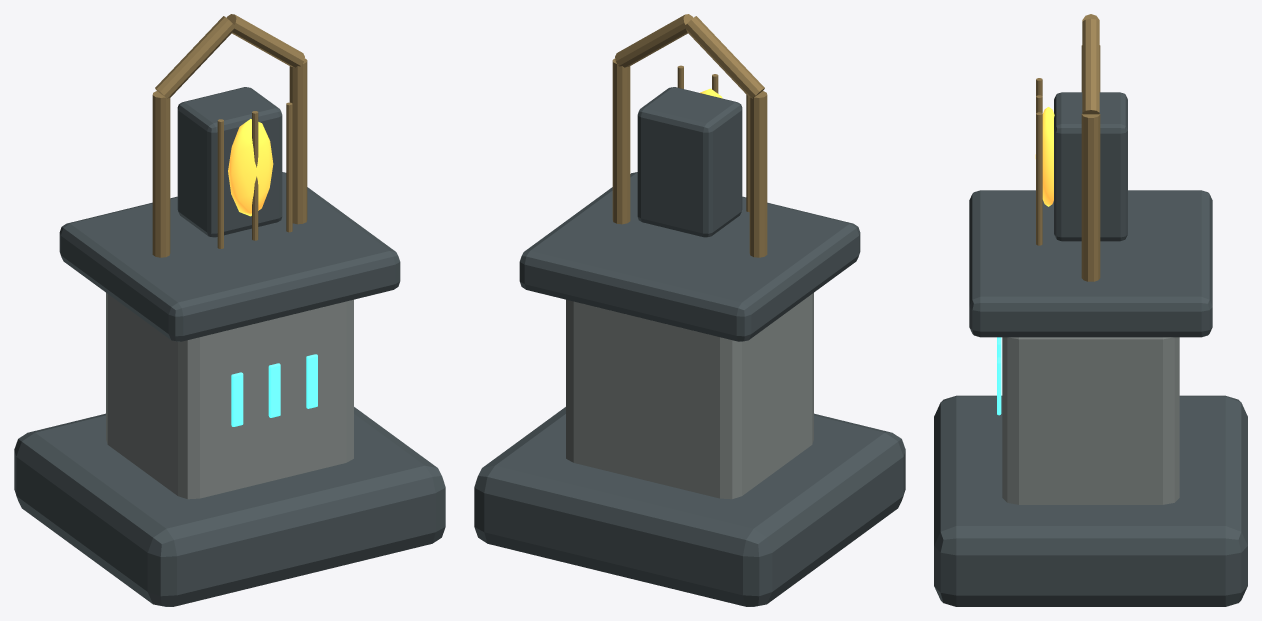
Rendered from Santuario.glb.
The picture shows the model from 3 angles, left to right: view 1: azimuth 30°, elevation 25°; view 2: azimuth 150°, elevation 25°; view 3: azimuth 270°, elevation 25°; orthographic projection. The views are drawn at different scales.
Visible parts, largest first — view 1: Base de pedra, Pedestal, Capitel, Gaiola da chama, Suporte de ferro, Última chama, Suporte de ferro.001, Arco do lampião, Arco do lampião.001, Grade.002, Grade, Grade.001 (+3 smaller); view 2: Base de pedra, Pedestal, Capitel, Gaiola da chama, Suporte de ferro, Suporte de ferro.001, Arco do lampião, Arco do lampião.001; view 3: Base de pedra, Capitel, Pedestal, Gaiola da chama, Suporte de ferro.001, Arco do lampião.001, Última chama, Grade.002.
Boxes of the visible parts, x1=… form: Base de pedra: x1=14, y1=407, x2=445, y2=606; Pedestal: x1=106, y1=293, x2=353, y2=499; Capitel: x1=59, y1=172, x2=400, y2=341; Gaiola da chama: x1=177, y1=87, x2=282, y2=237; Suporte de ferro: x1=152, y1=91, x2=170, y2=257; Última chama: x1=228, y1=119, x2=273, y2=216; Suporte de ferro.001: x1=289, y1=58, x2=307, y2=224; Arco do lampião: x1=155, y1=16, x2=235, y2=98; Arco do lampião.001: x1=226, y1=14, x2=304, y2=67; Grade.002: x1=286, y1=102, x2=292, y2=232; Grade: x1=217, y1=119, x2=223, y2=248; Grade.001: x1=252, y1=111, x2=258, y2=240; Base de pedra: x1=474, y1=407, x2=905, y2=606; Pedestal: x1=566, y1=293, x2=813, y2=499; Capitel: x1=519, y1=172, x2=860, y2=341; Gaiola da chama: x1=637, y1=87, x2=742, y2=237; Suporte de ferro: x1=749, y1=91, x2=767, y2=257; Suporte de ferro.001: x1=612, y1=58, x2=630, y2=224; Arco do lampião: x1=684, y1=16, x2=764, y2=98; Arco do lampião.001: x1=615, y1=14, x2=693, y2=67; Base de pedra: x1=934, y1=395, x2=1247, y2=606; Capitel: x1=969, y1=190, x2=1212, y2=337; Pedestal: x1=1002, y1=337, x2=1179, y2=504; Gaiola da chama: x1=1054, y1=92, x2=1127, y2=241; Suporte de ferro.001: x1=1081, y1=114, x2=1100, y2=281; Arco do lampião.001: x1=1082, y1=19, x2=1099, y2=114; Última chama: x1=1035, y1=107, x2=1054, y2=206; Grade.002: x1=1036, y1=112, x2=1042, y2=245.
Bounding box in the file's own units: 0.95 × 1.57 × 0.85.
